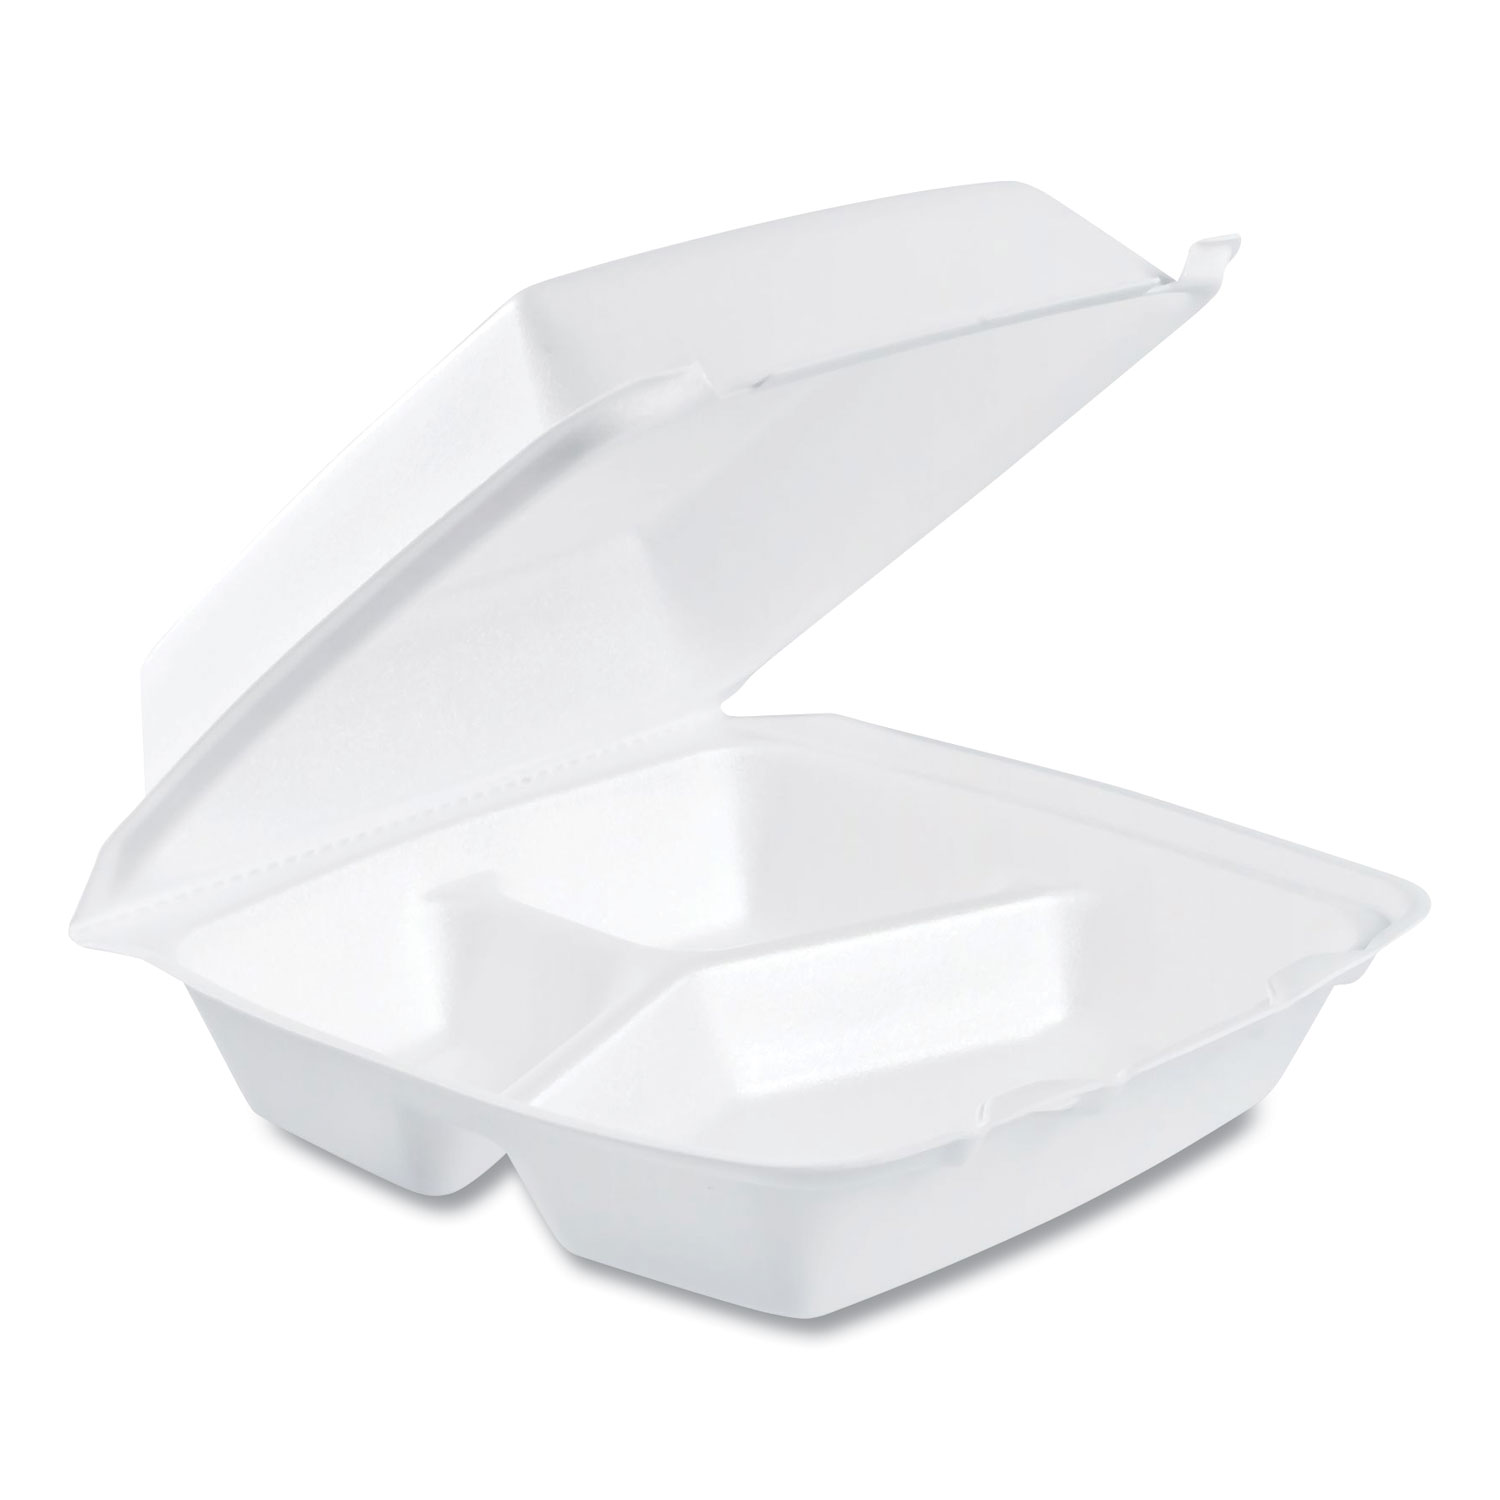styrofoam: (82, 174, 1440, 1330)
